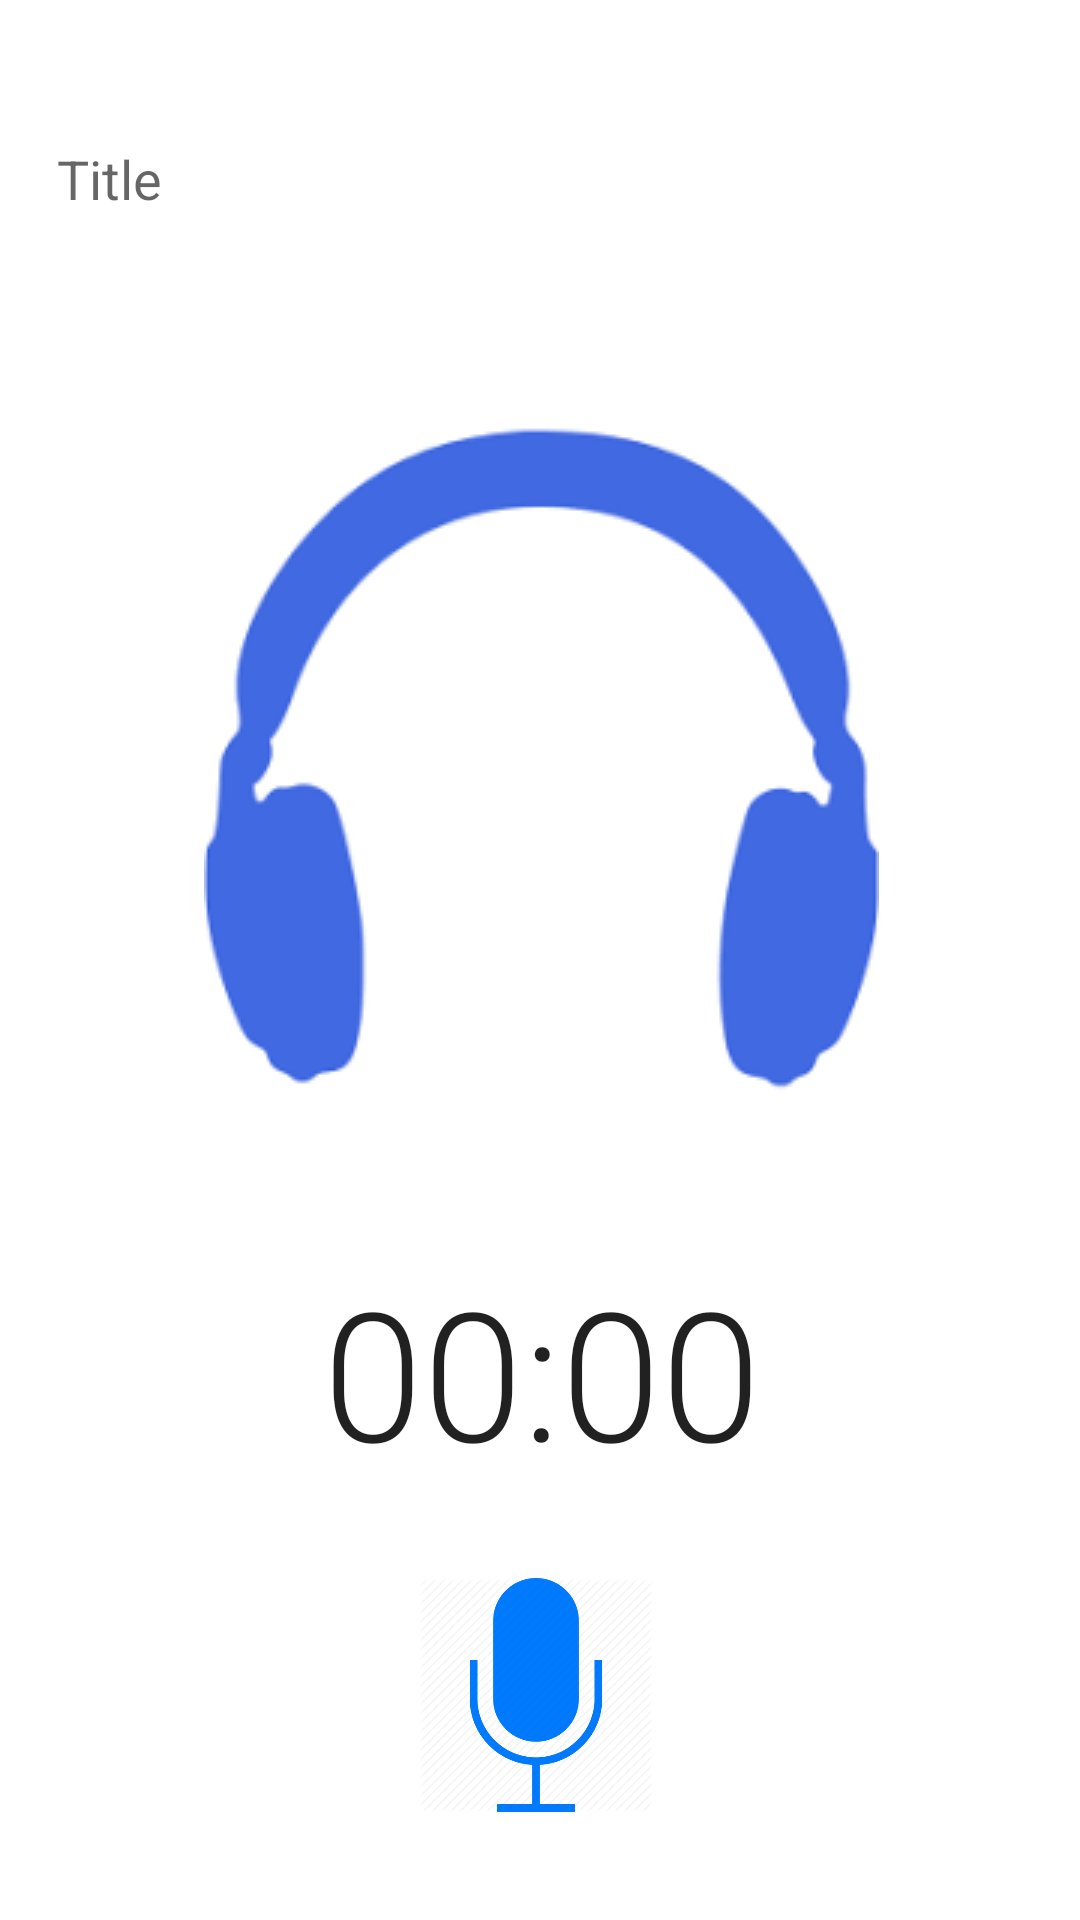

Where to tap for icons on this 1080w x 1920h app screen, as [x,y]:
microphone: [536,1695]
